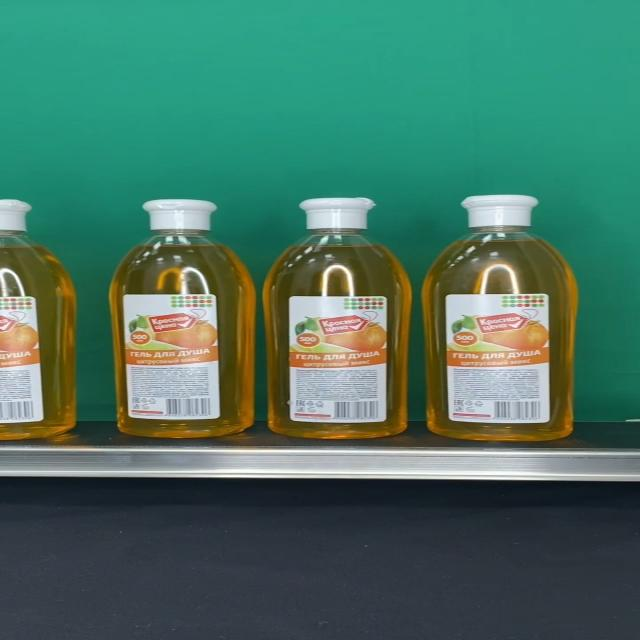Bottle: (422, 194, 580, 440), (262, 196, 414, 439), (109, 199, 256, 437)
Cap: (460, 195, 540, 228), (298, 196, 378, 228), (143, 198, 218, 230)
